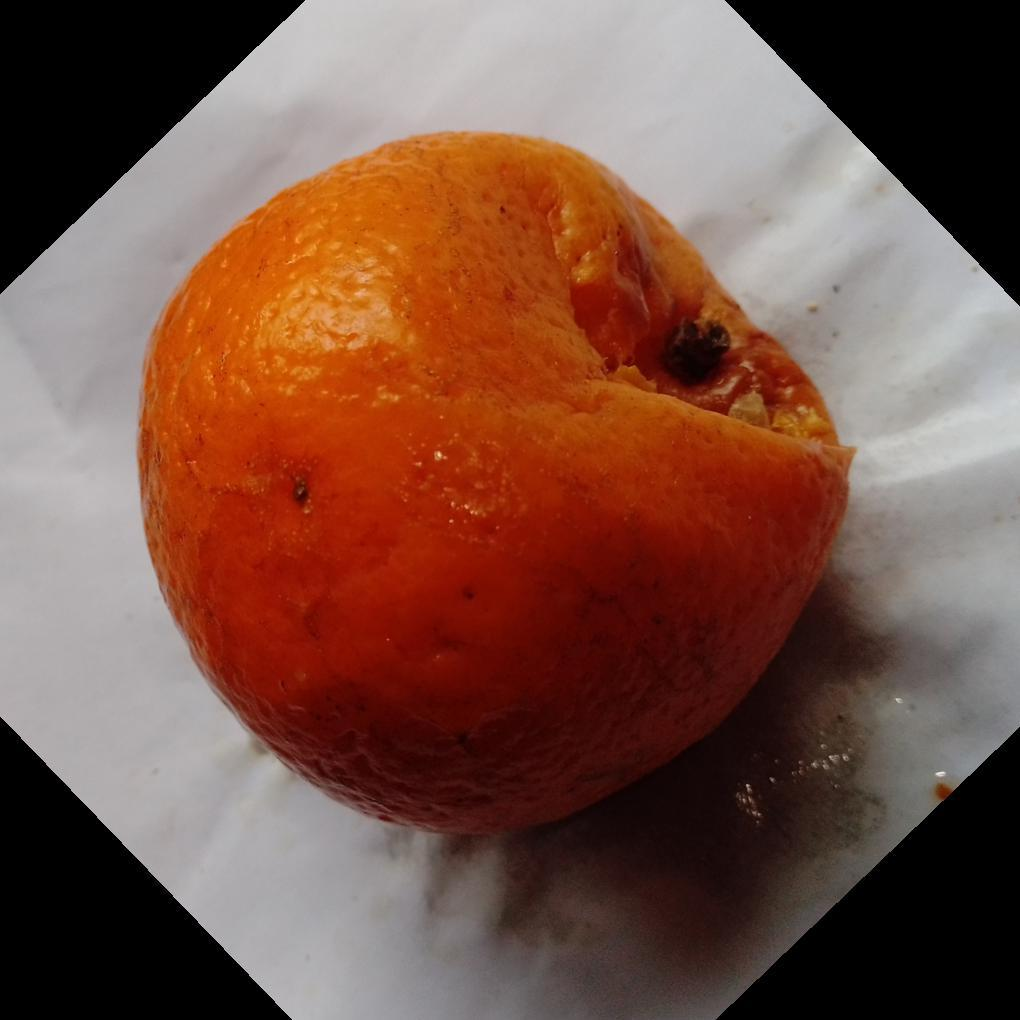FreshOrange: (136, 131, 857, 843)
